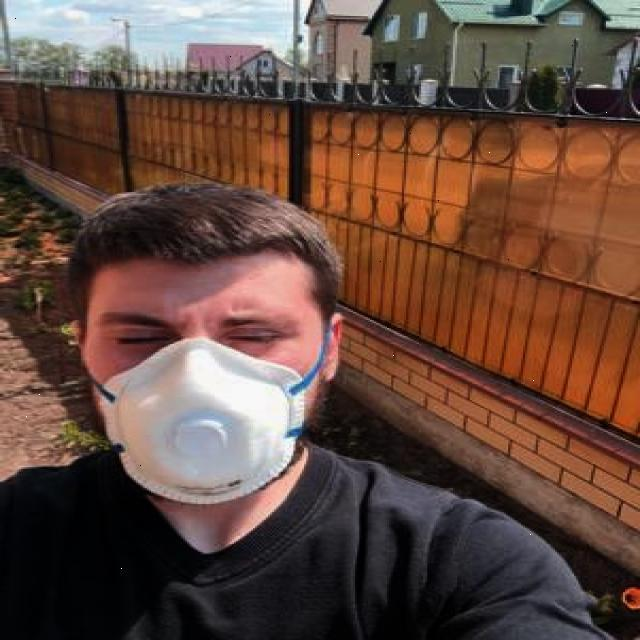1_mascarilla: (92, 342, 332, 508)
